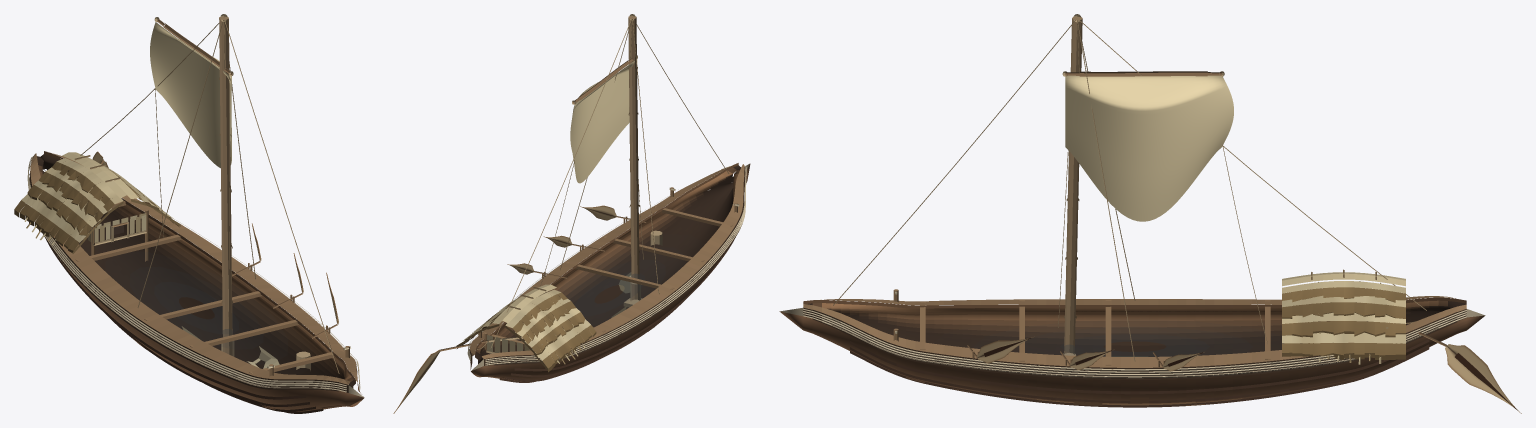
The model's file is japan_quasi.glb.
The picture shows the model from 3 angles, left to right: view 1: azimuth 30°, elevation 25°; view 2: azimuth 150°, elevation 25°; view 3: azimuth 270°, elevation 25°; orthographic projection. The views are drawn at different scales.
Visible parts, largest first — view 1: Fittings, Deck, Sails, Boards, Shadow, Dugout; view 2: Fittings, Deck, Sails, Boards, Shadow, Dugout; view 3: Fittings, Sails, Deck, Boards, Dugout, Shadow.
Boxes of the visible parts, left/top/right/bottom form: Fittings: left=14, top=14, right=357, bottom=388; Deck: left=37, top=154, right=355, bottom=388; Sails: left=150, top=22, right=231, bottom=168; Boards: left=27, top=157, right=360, bottom=413; Shadow: left=129, top=266, right=263, bottom=349; Dugout: left=31, top=159, right=364, bottom=411; Fittings: left=393, top=14, right=744, bottom=413; Deck: left=475, top=165, right=740, bottom=363; Sails: left=570, top=59, right=637, bottom=183; Boards: left=467, top=166, right=746, bottom=382; Shadow: left=566, top=259, right=665, bottom=325; Dugout: left=470, top=164, right=750, bottom=382; Fittings: left=803, top=14, right=1521, bottom=413; Sails: left=1065, top=75, right=1233, bottom=221; Deck: left=805, top=300, right=1466, bottom=356; Boards: left=803, top=299, right=1466, bottom=407; Dugout: left=779, top=311, right=1484, bottom=405; Shadow: left=1017, top=326, right=1252, bottom=356.
Bounding box in the file's own units: 2.28 × 4.9 × 8.62.
